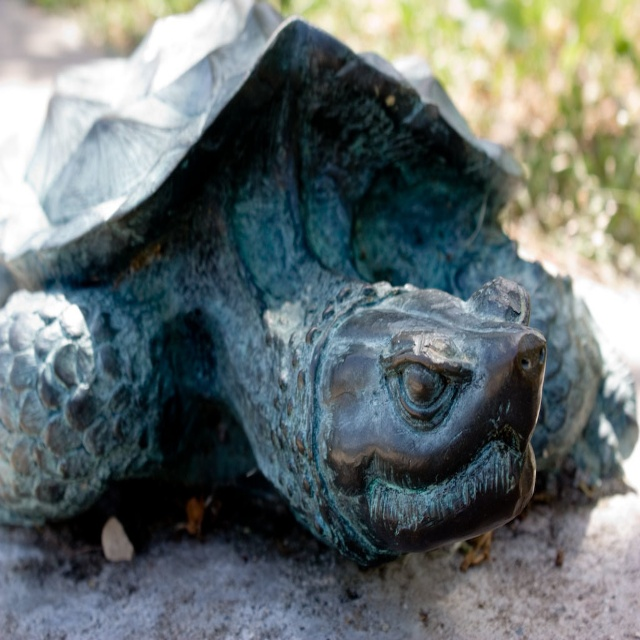Tortoise: (0, 0, 636, 568)
